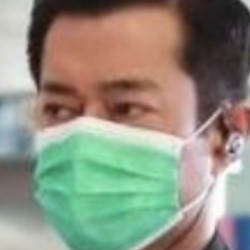mask: (30, 110, 203, 250)
